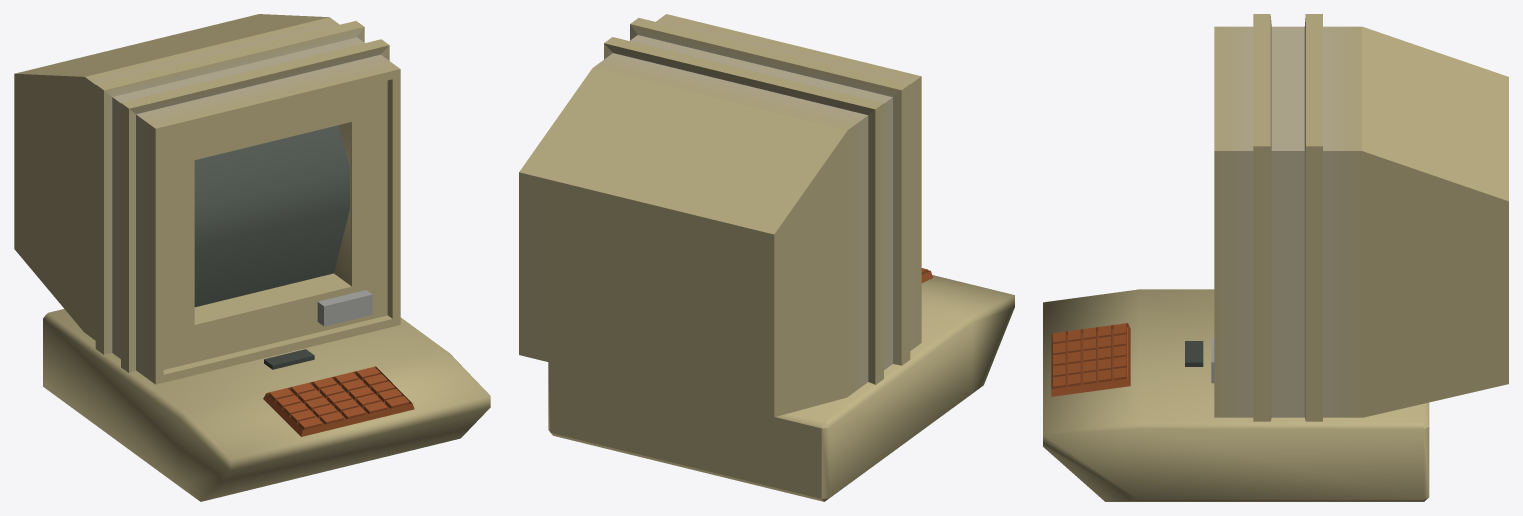
File: AndreParreiras_853209.fbx_Computador.fbx
3 views of the same model, side by side, from view 1: azimuth 30°, elevation 25°; view 2: azimuth 150°, elevation 25°; view 3: azimuth 270°, elevation 25° (orthographic). The views are drawn at different scales.
Visible parts, largest first — view 1: Computador; view 2: Computador; view 3: Computador.
Part boxes in pixels (x1,y1,x2,y2): Computador: [14, 14, 490, 501]; Computador: [519, 14, 1014, 501]; Computador: [1043, 14, 1508, 501].
Size of the model in its own units: 65.89 by 79.61 by 94.55.
